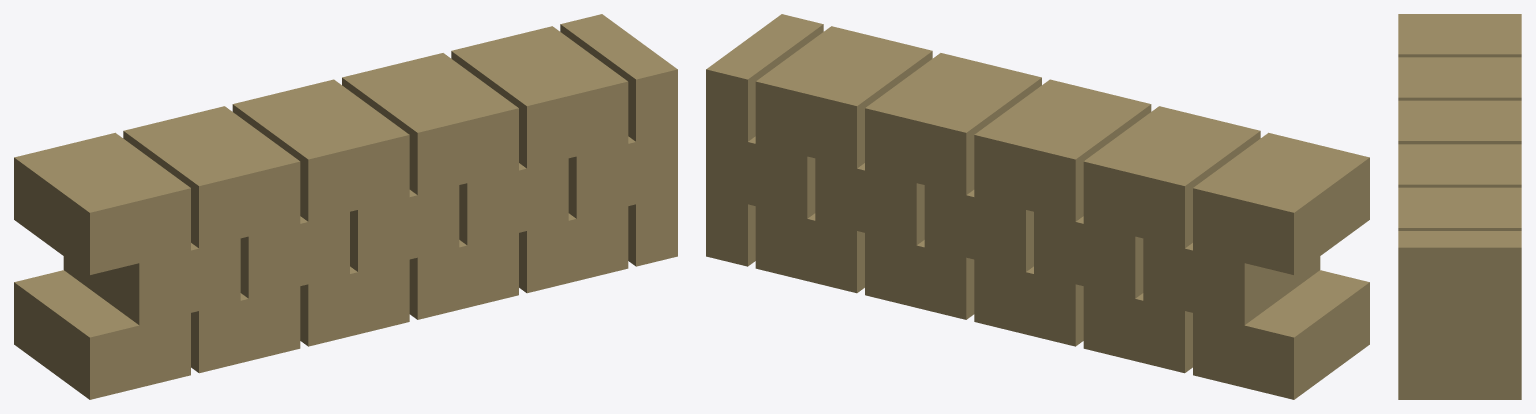
Rendered from sandbags.glb.
3 views of the same model, side by side, from view 1: azimuth 30°, elevation 25°; view 2: azimuth 150°, elevation 25°; view 3: azimuth 270°, elevation 25° (orthographic). The views are drawn at different scales.
Parts seen in each view (by area): view 1: sandbags; view 2: sandbags; view 3: sandbags.
Part boxes in pixels (x1=…): sandbags: x1=14, y1=14, x2=677, y2=399; sandbags: x1=706, y1=14, x2=1369, y2=399; sandbags: x1=1398, y1=14, x2=1521, y2=399.
Size of the model in its own units: 2.96 by 0.9 by 0.66.
